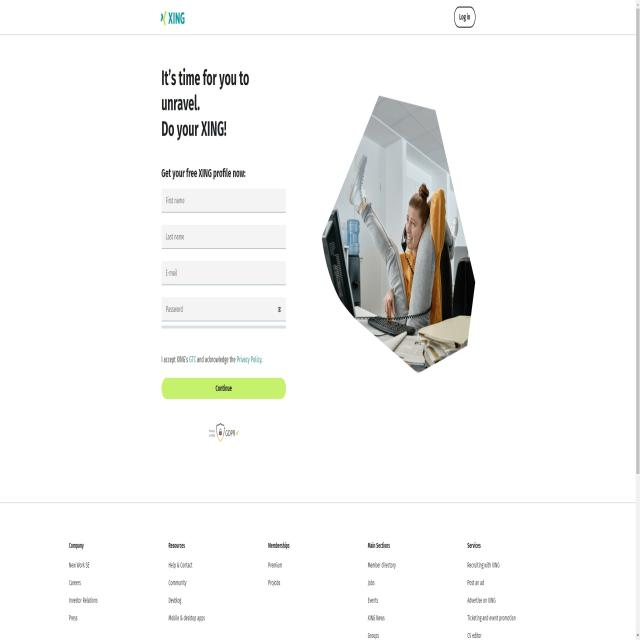menu-bar: (446, 1, 481, 32)
